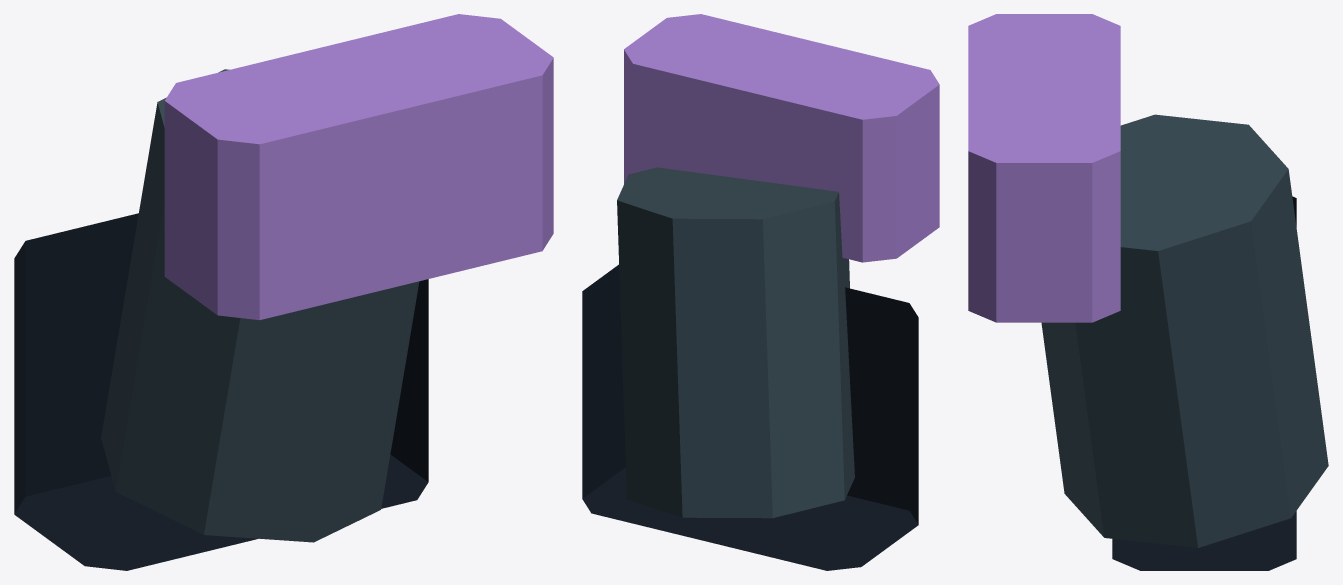
Rendered from enemy_tank_lod_shin_r.obj.
3 views of the same model, side by side, from view 1: azimuth 30°, elevation 25°; view 2: azimuth 150°, elevation 25°; view 3: azimuth 270°, elevation 25° (orthographic). The views are drawn at different scales.
Size of the model in its own units: 0.51 by 0.59 by 0.4499.
